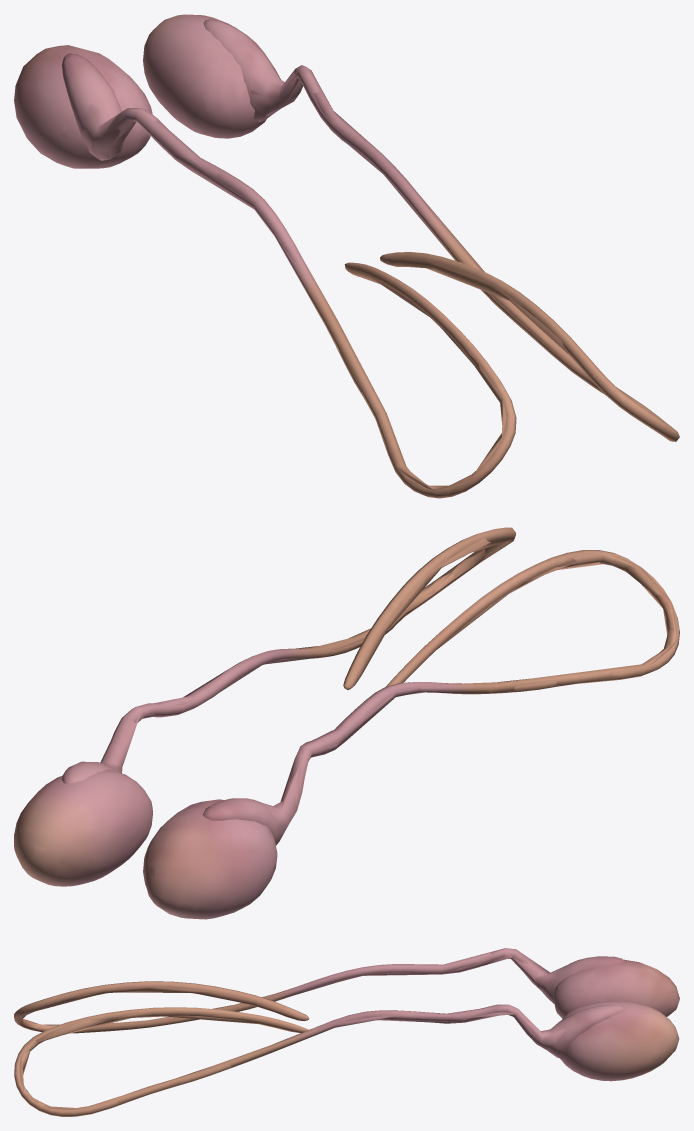
Rendered from Testicles.fbx.
The picture shows the model from 3 angles, top to bottom: view 1: azimuth 30°, elevation 25°; view 2: azimuth 150°, elevation 25°; view 3: azimuth 270°, elevation 25°; orthographic projection. The views are drawn at different scales.
Visible parts, largest first — view 1: Testicles high, Testicles, Testicles low; view 2: Testicles high, Testicles low, Testicles; view 3: Testicles high, Testicles, Testicles low.
Part boxes in pixels (x1,y1,x2,y2): Testicles high: [14, 14, 679, 498]; Testicles: [15, 15, 677, 497]; Testicles low: [60, 50, 674, 490]; Testicles high: [14, 527, 679, 919]; Testicles low: [33, 538, 677, 880]; Testicles: [14, 528, 679, 917]; Testicles high: [14, 948, 679, 1116]; Testicles: [14, 951, 678, 1115]; Testicles low: [19, 948, 675, 1109].
Size of the model in its own units: 1.79 by 0.9526 by 5.83.
Materials: 1 (1 with a texture image).
